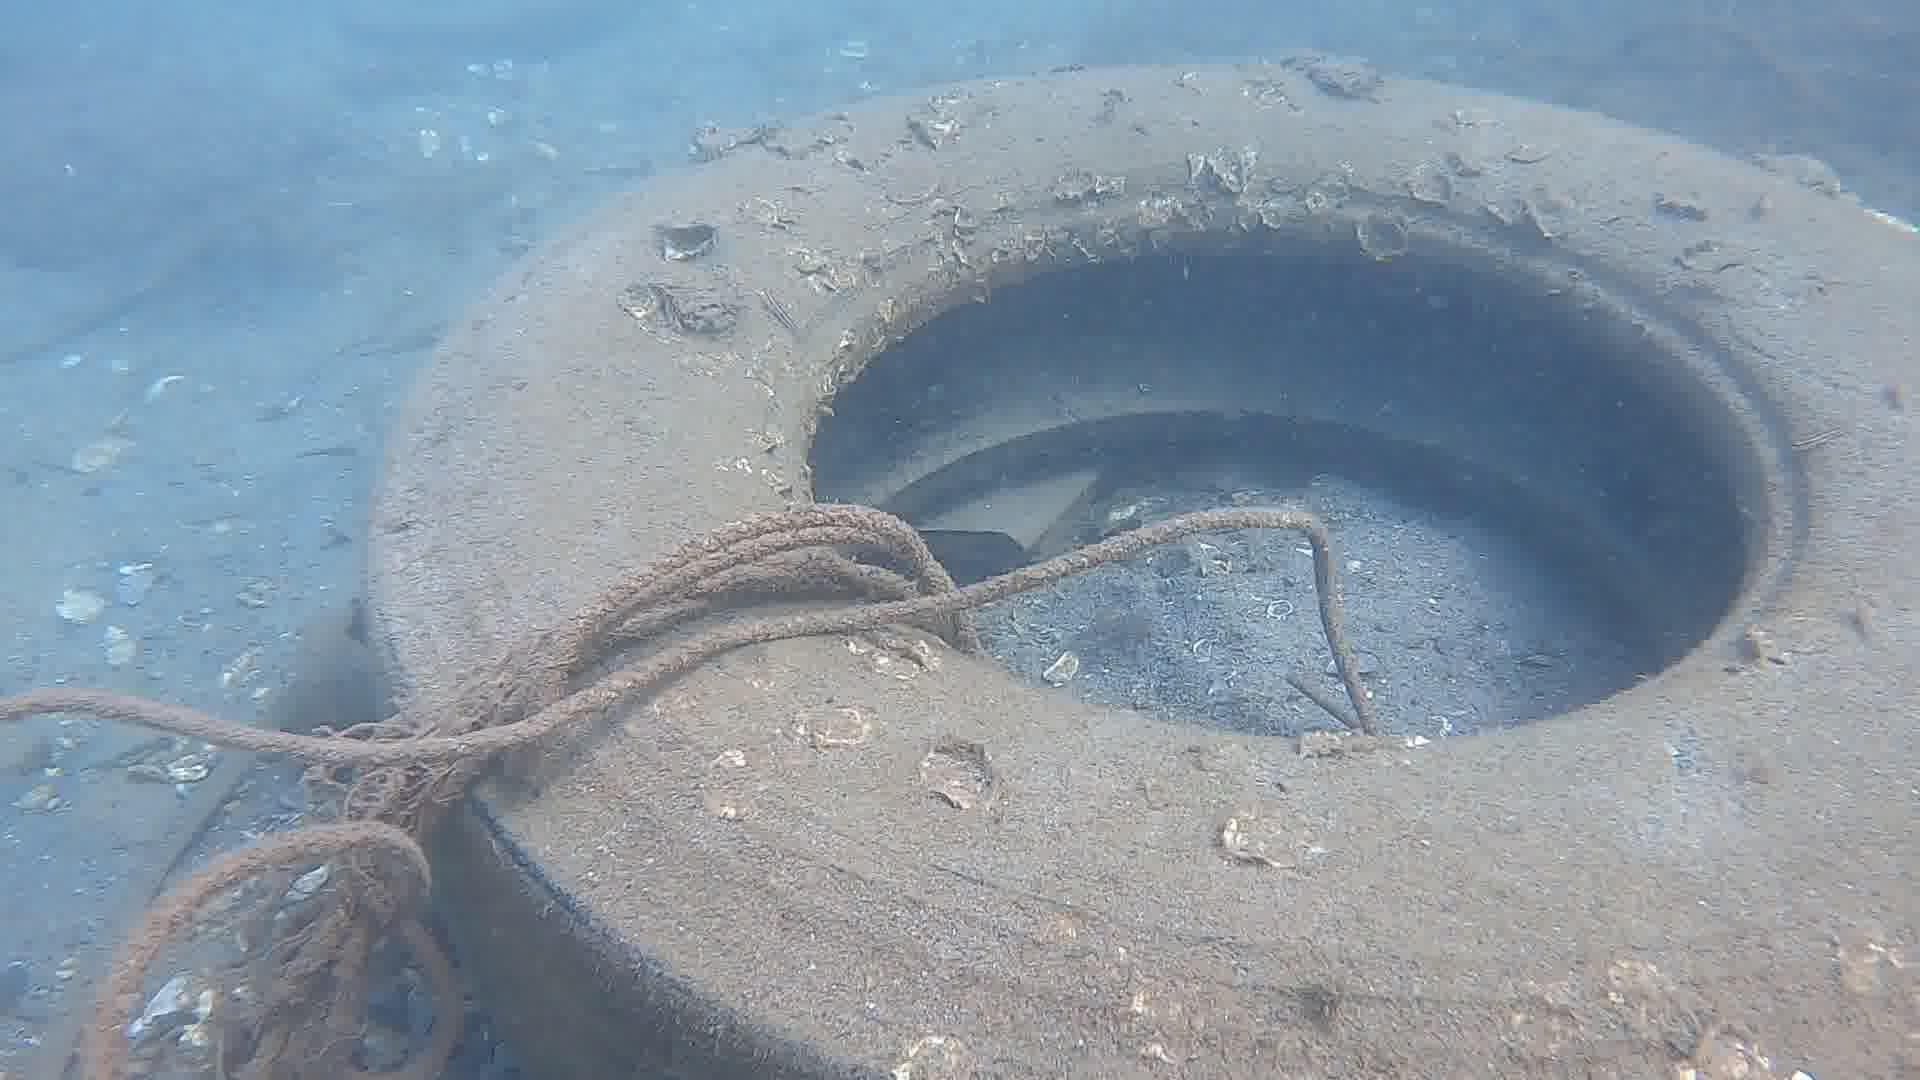bundle of ropes: (0, 501, 1382, 1080)
tire: (363, 58, 1920, 1080)
